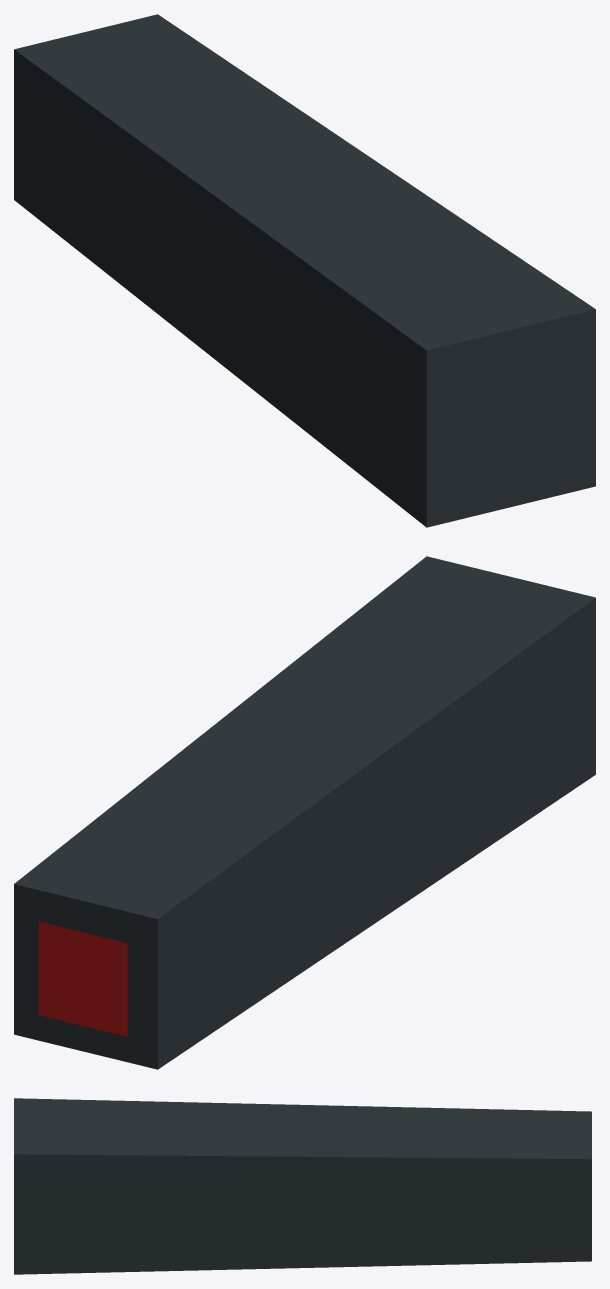
The picture shows the model from 3 angles, top to bottom: view 1: azimuth 30°, elevation 25°; view 2: azimuth 150°, elevation 25°; view 3: azimuth 270°, elevation 25°; orthographic projection. The views are drawn at different scales.
Visible parts, largest first — view 1: mount; view 2: mount; view 3: mount.
Boxes of the visible parts, x1=… form: mount: x1=14, y1=14, x2=595, y2=527; mount: x1=14, y1=556, x2=595, y2=1069; mount: x1=14, y1=1098, x2=591, y2=1274.
Bounding box in the file's own units: 0.9899 × 0.9899 × 4.34.
